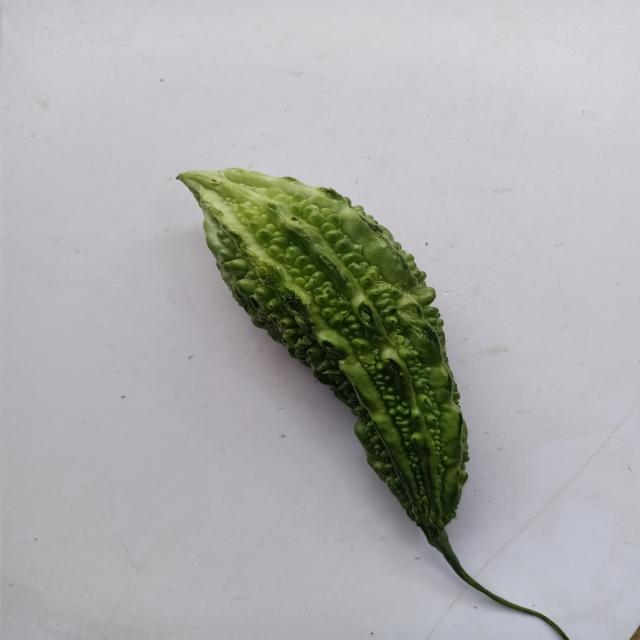Bitter Gourd: (149, 147, 593, 640)
